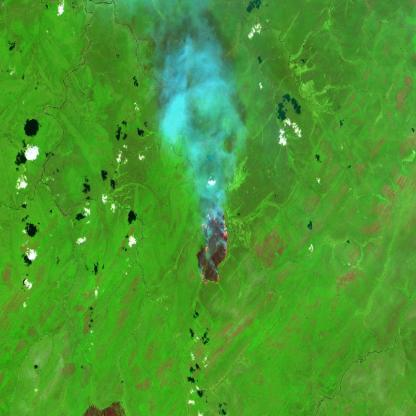fire: (194, 203, 231, 291)
